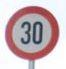Gioi han toc do: (4, 6, 60, 61)
